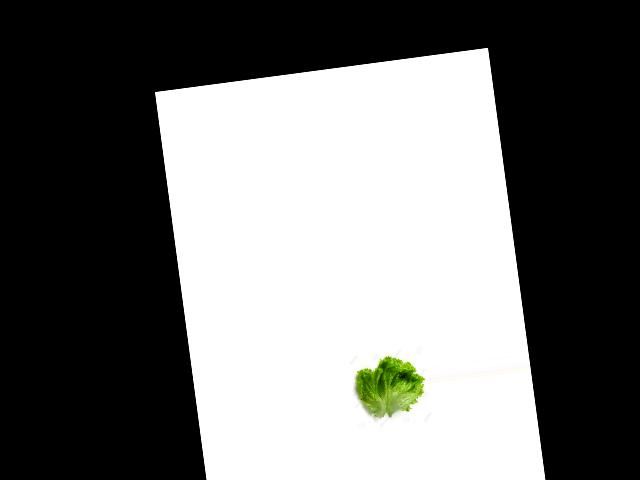lettuce: (347, 354, 430, 423)
